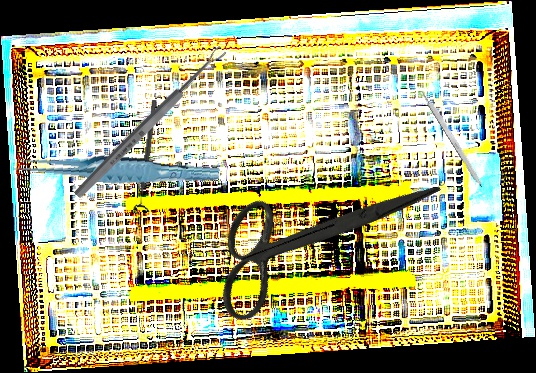Fixation Ring: (132, 98, 164, 213)
Iris Scissors: (187, 101, 442, 373)
Scalpel Handle: (419, 88, 486, 189)
Surgical Spoon: (71, 44, 229, 201)
Tissue Forceps: (11, 141, 221, 197)
